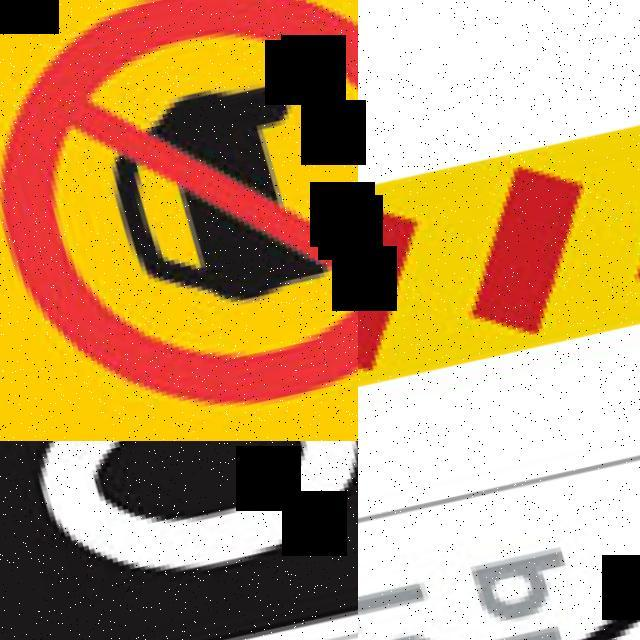100: (0, 441, 358, 640)
115: (358, 441, 640, 640)
4: (358, 87, 640, 412)
No entry for motor vehicles: (0, 0, 358, 441)
